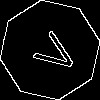V: (25, 25, 81, 78)
